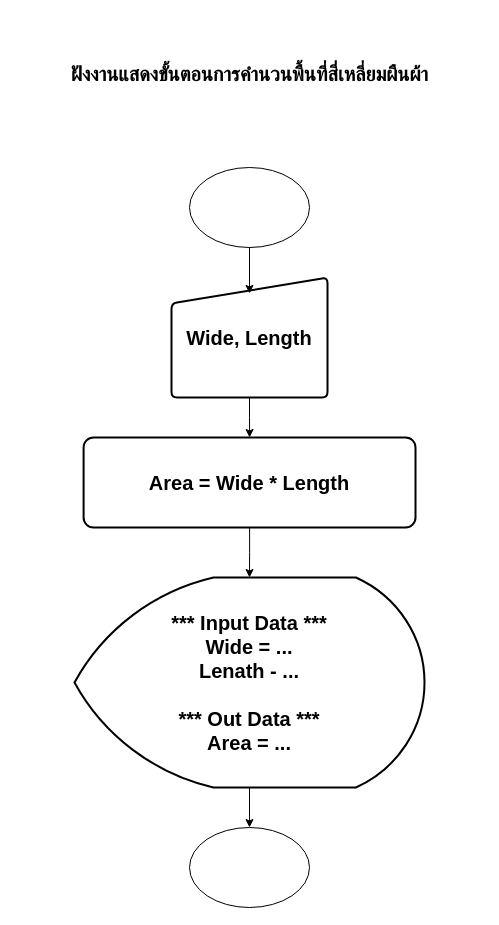
The diagram is 499 pixels wide and 925 high, and some of its shapes have lost their labels. Here are the shapes that lost their labels. From the top down, the box of each, then its label:
(188, 166, 310, 248): Start
(188, 826, 310, 908): Stop
